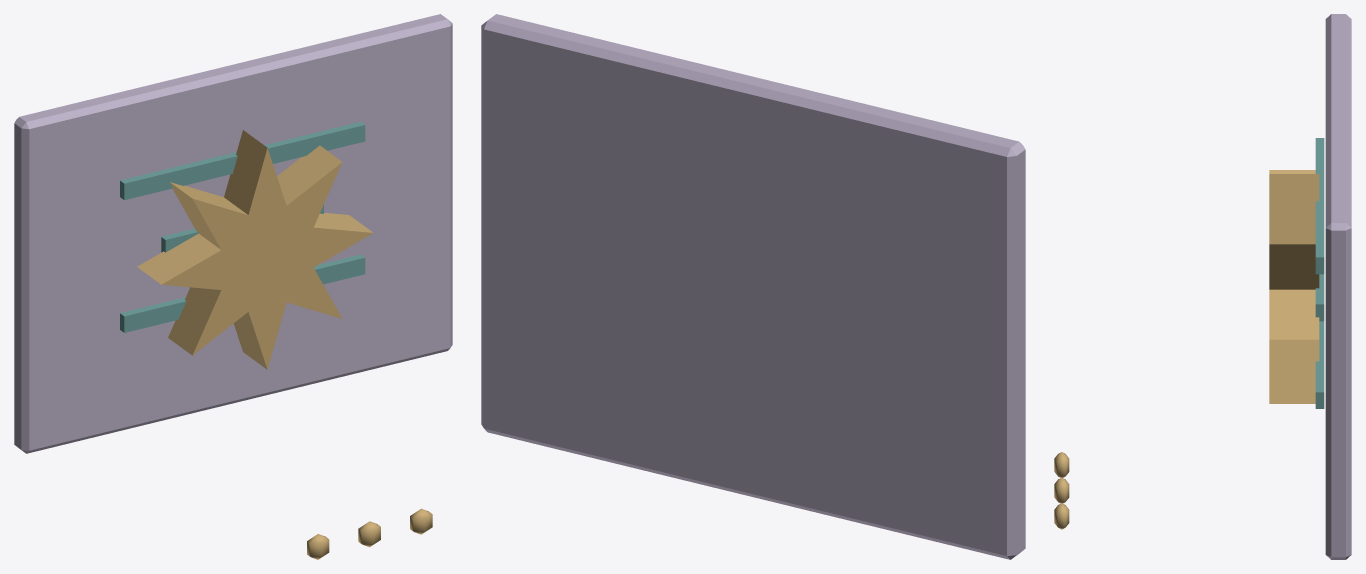
3 renders of one model, left to right at view 1: azimuth 30°, elevation 25°; view 2: azimuth 150°, elevation 25°; view 3: azimuth 270°, elevation 25°, orthographic. The views are drawn at different scales.
Parts seen in each view (by area): view 1: g_s47; view 2: g_s47; view 3: g_s47.
Part boxes in pixels (x1=…): g_s47: x1=14, y1=14, x2=452, y2=559; g_s47: x1=481, y1=14, x2=1025, y2=559; g_s47: x1=1054, y1=14, x2=1351, y2=559.
Bounding box in the file's own units: 0.2924 × 0.246 × 0.1719.
